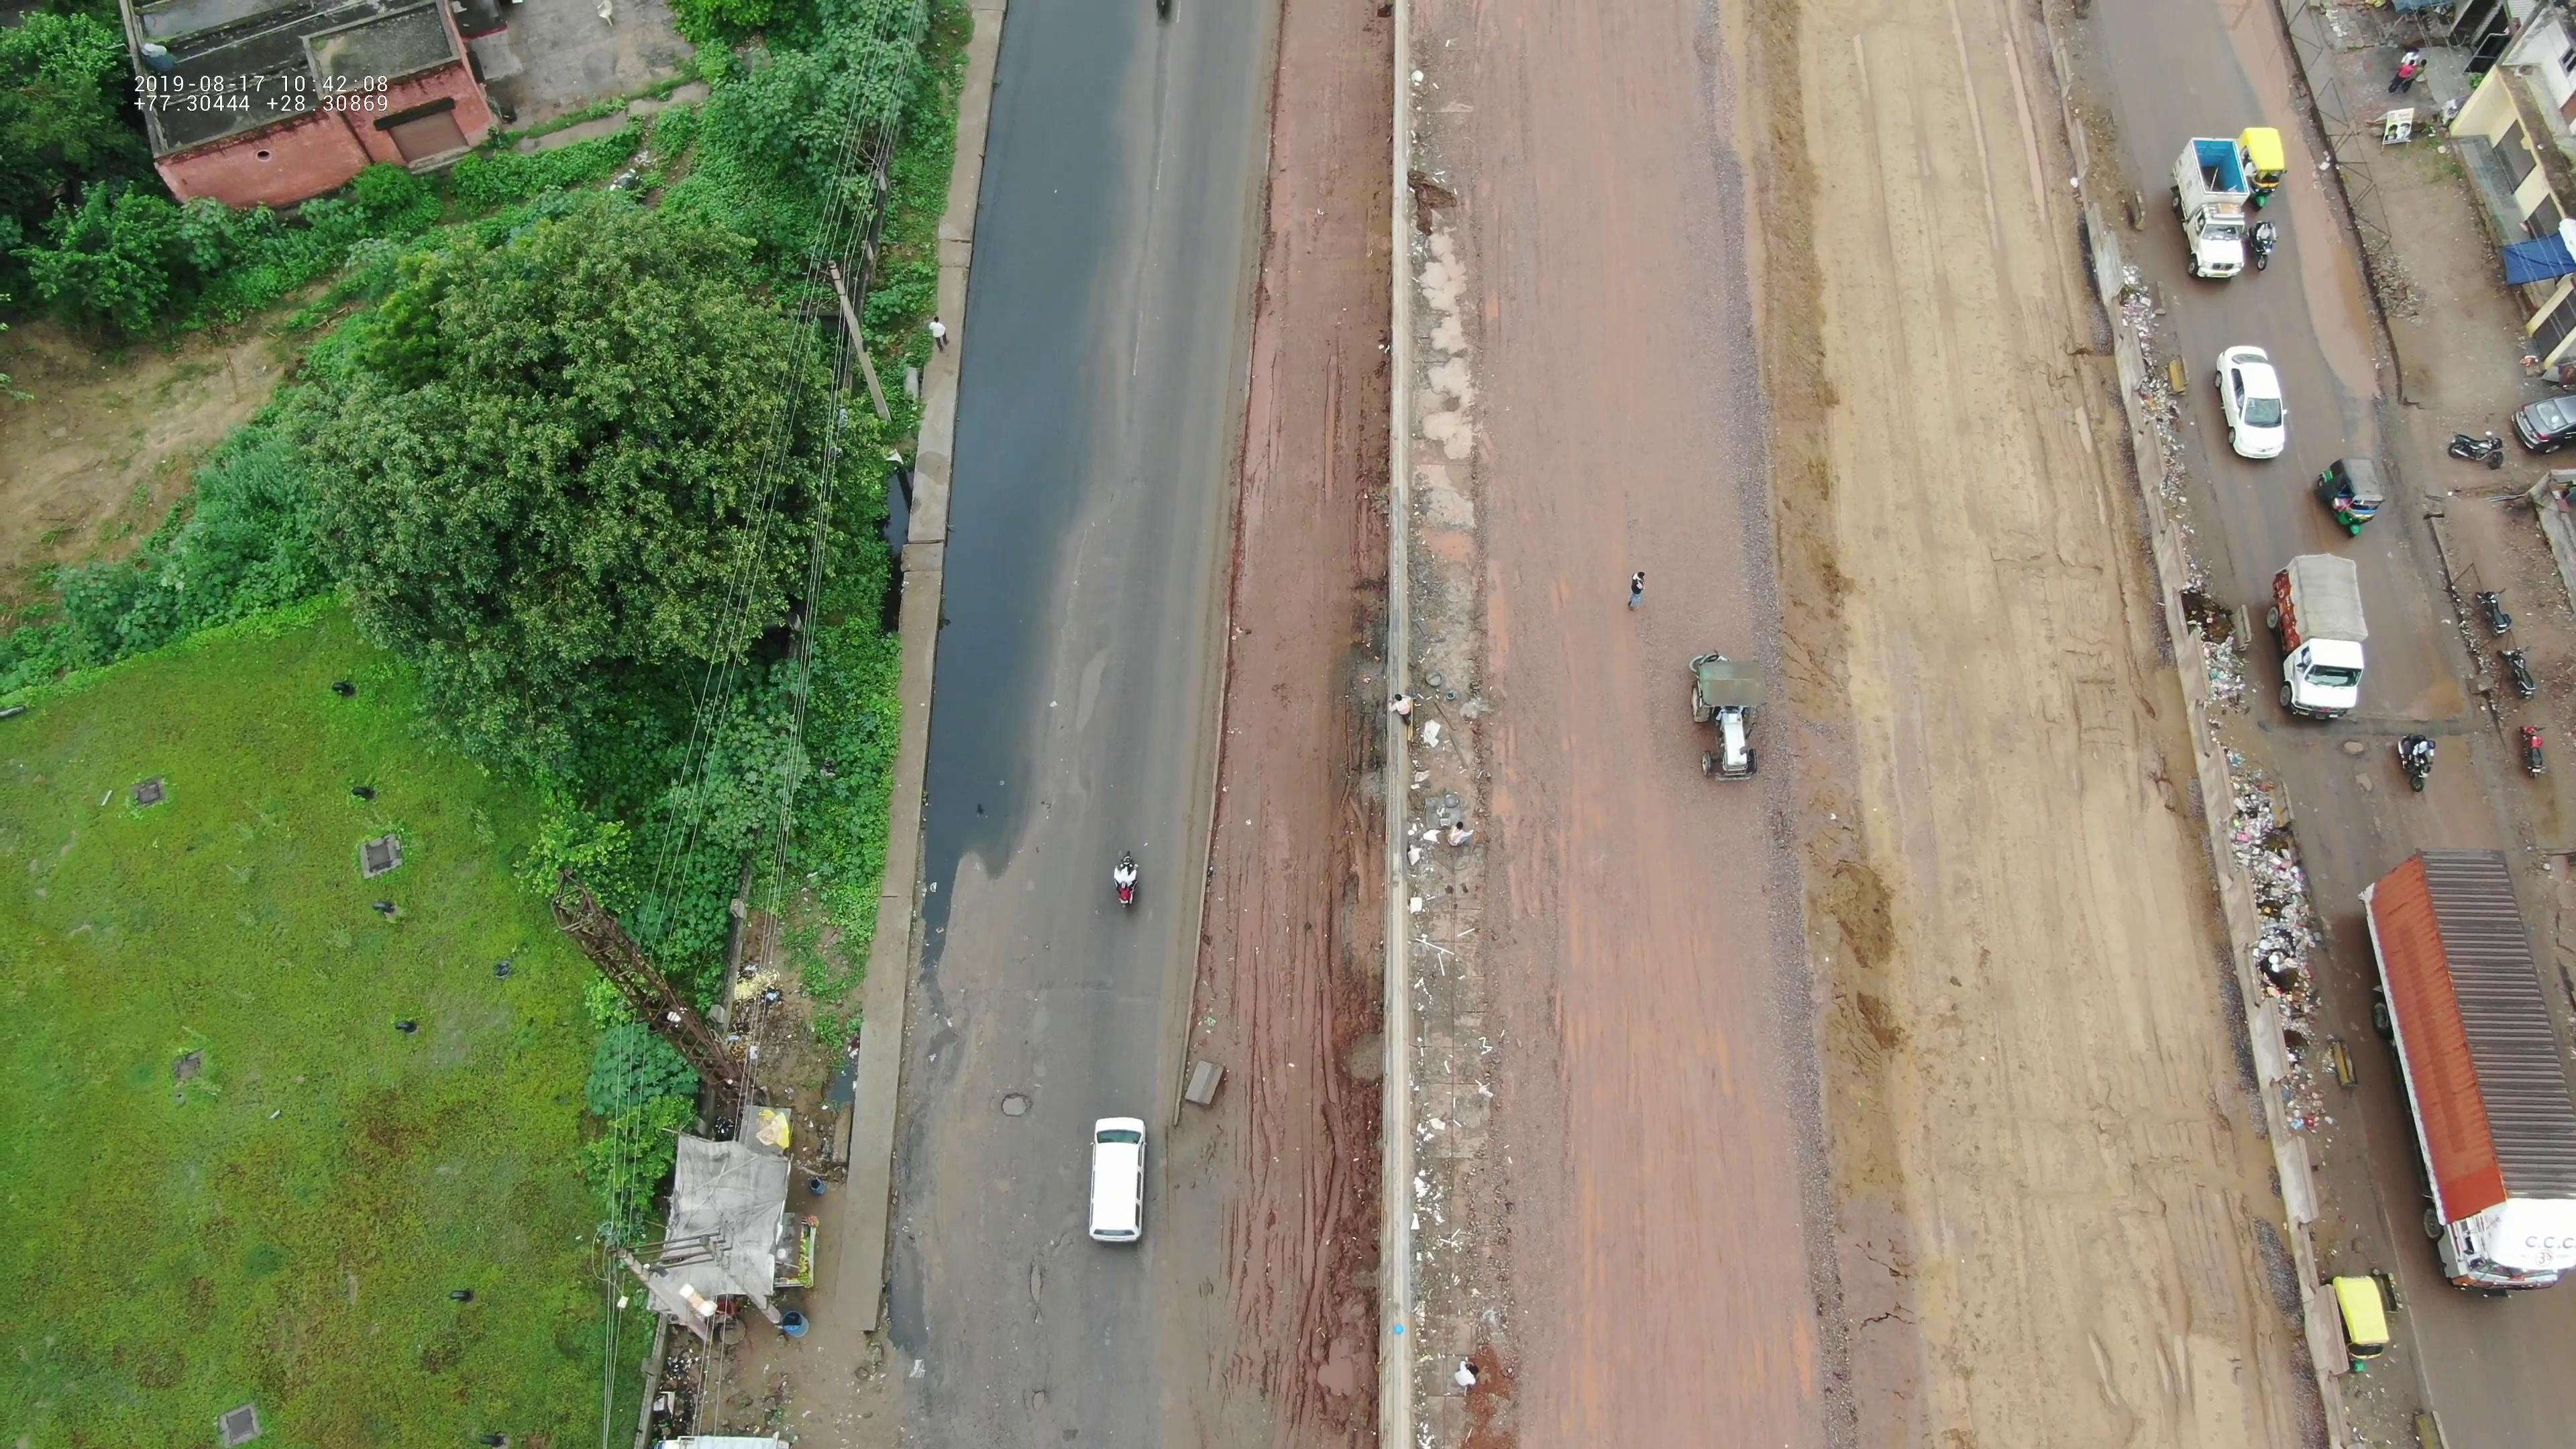Potholes: (1026, 1254, 1079, 1430), (1072, 648, 1138, 782), (994, 1079, 1063, 1143)
